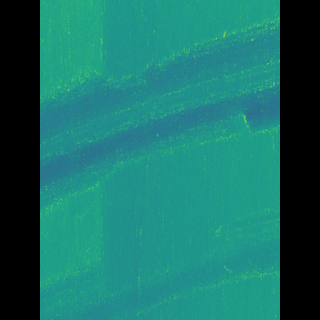Loch: (70, 13, 250, 210), (69, 207, 250, 320)
